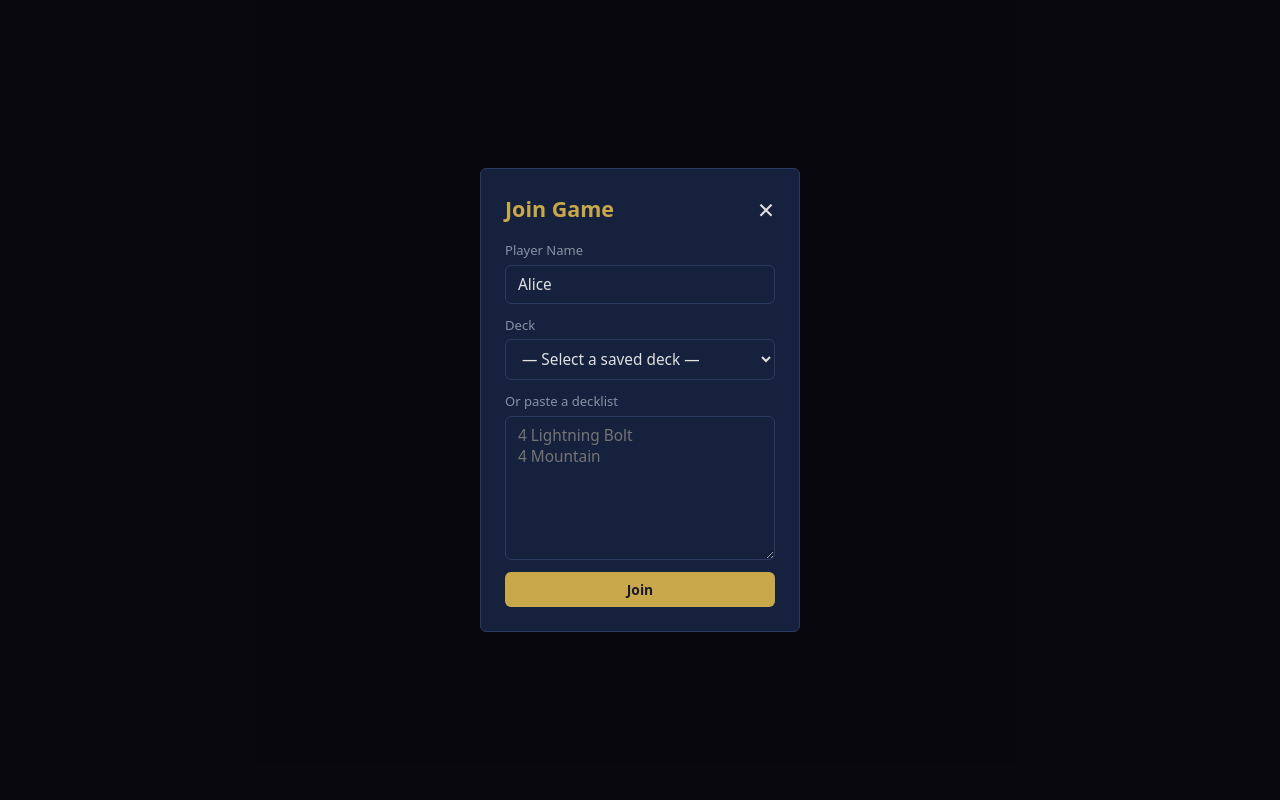
it: JoinGameDialog › shows error when decklist is empty
Click the button "Join" at (640, 590), box [505,572,775,607]
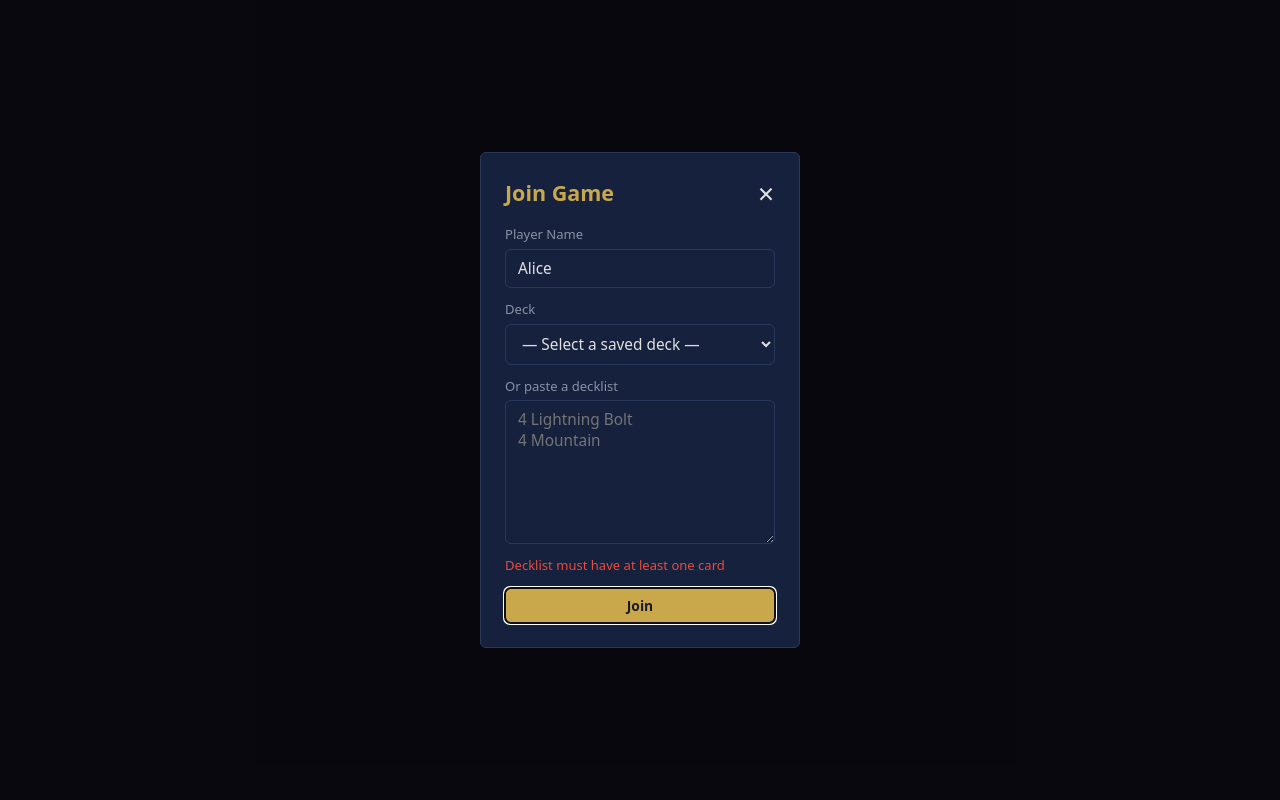
Now the message reads "Decklist must have at least one card", box [505,556,725,574]
